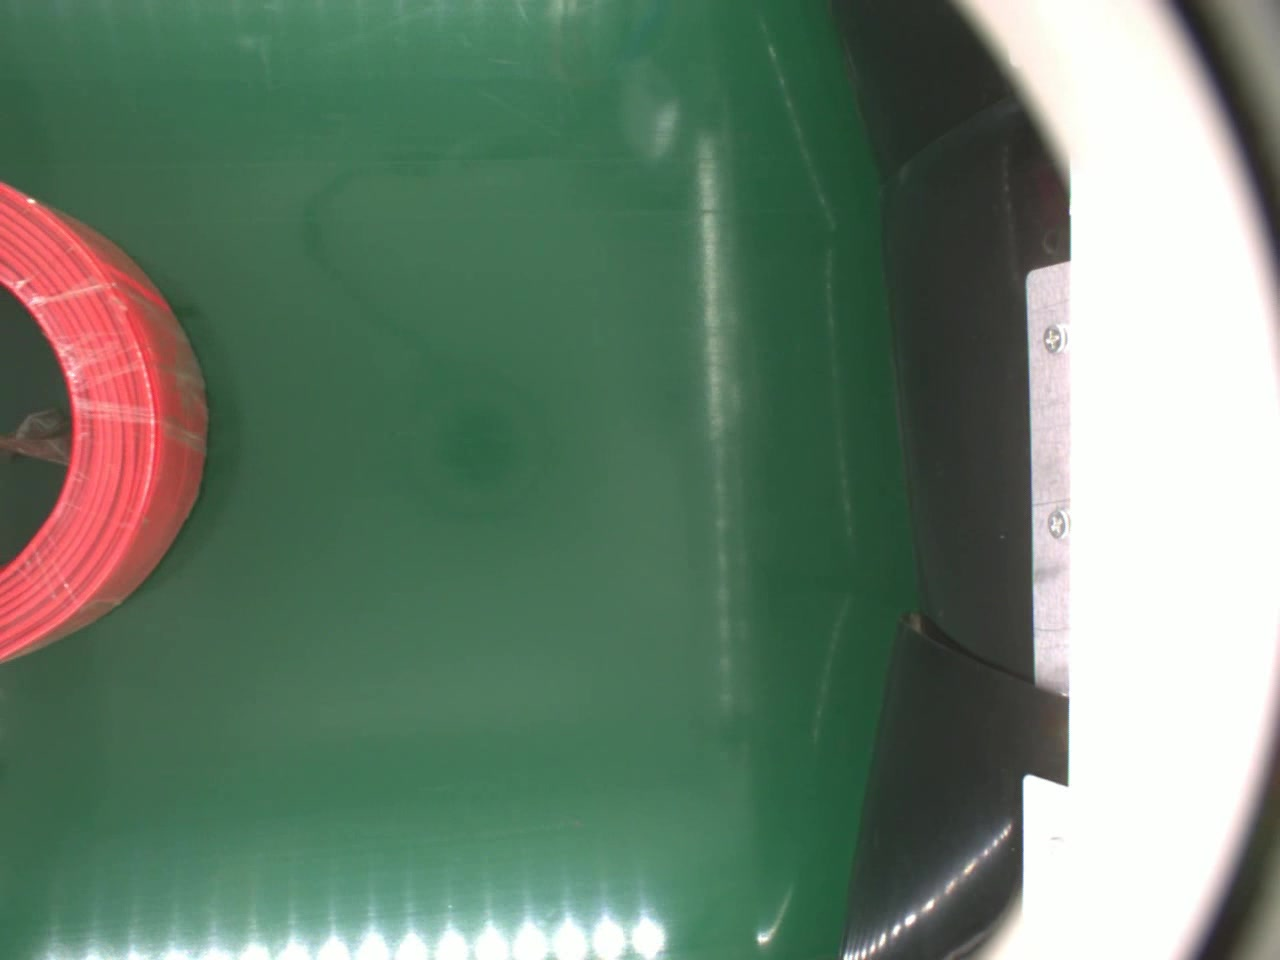red: (0, 181, 211, 664)
